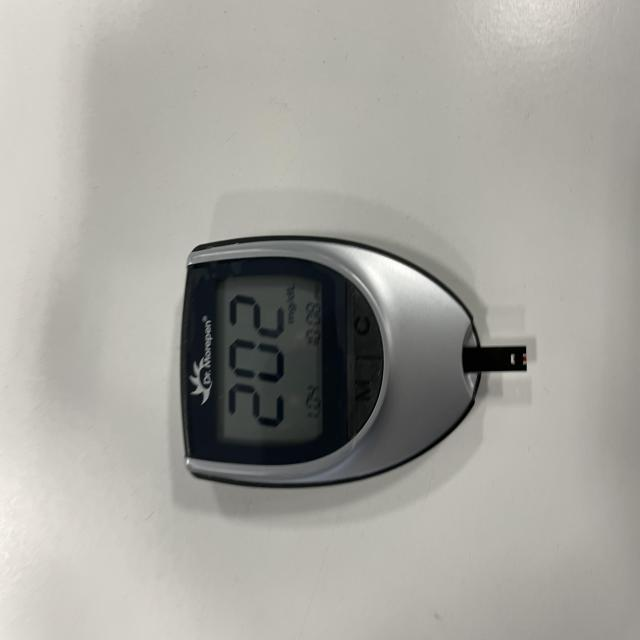gluco: (176, 192, 529, 491)
